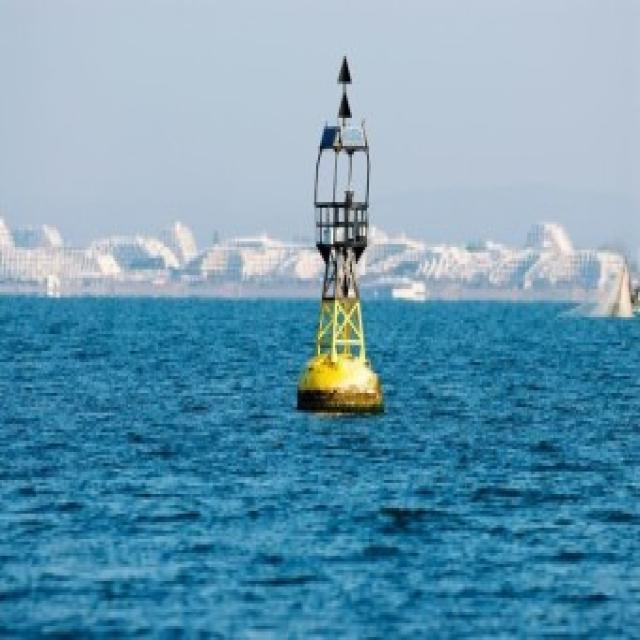buoy: (282, 19, 389, 440)
